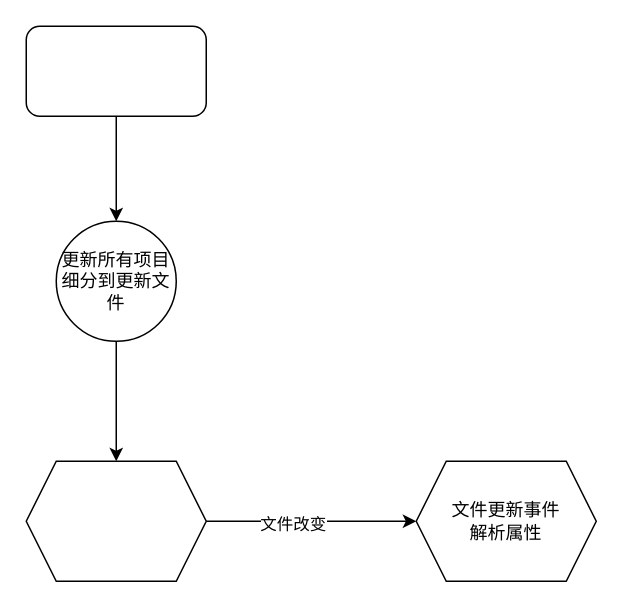
Image size: 623x608. Some labels were removed from this diagram. Here are the shapes that lost their labels. From the top down, the centre of each, then its label:
the point at 115,70: 启动
the point at 115,520: 项目更新事件 扫描项目目录
